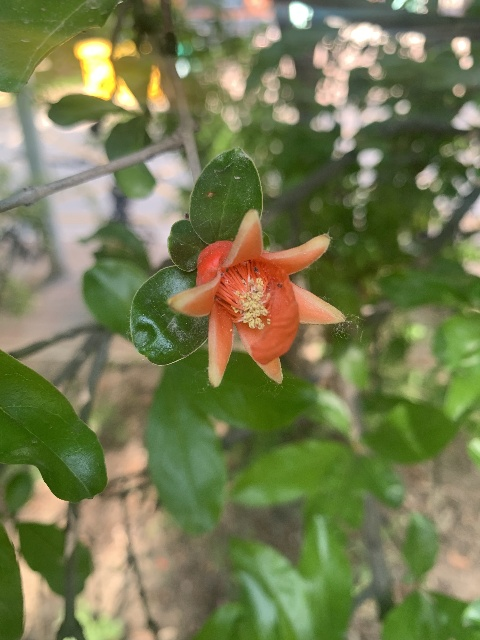flower: (167, 210, 346, 386)
